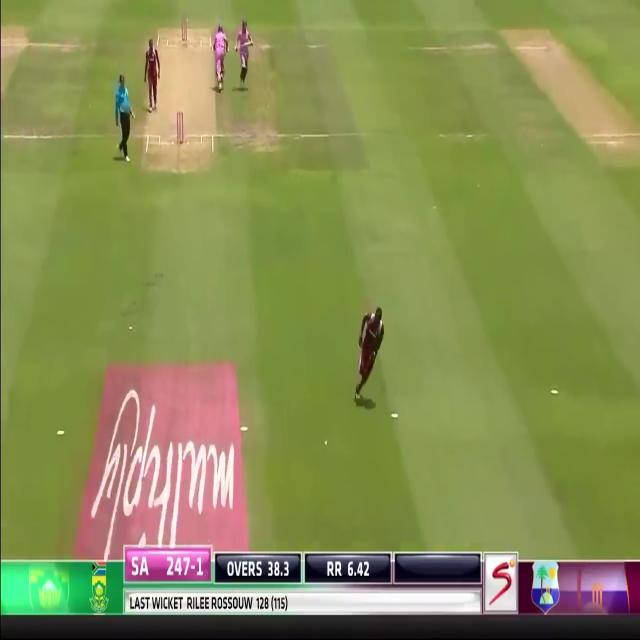Ball: (211, 24, 228, 90), (236, 19, 252, 89)
Batsman: (323, 434, 329, 452)
Fielder: (356, 305, 388, 404), (144, 38, 161, 106)
Umpire: (114, 74, 133, 162)
